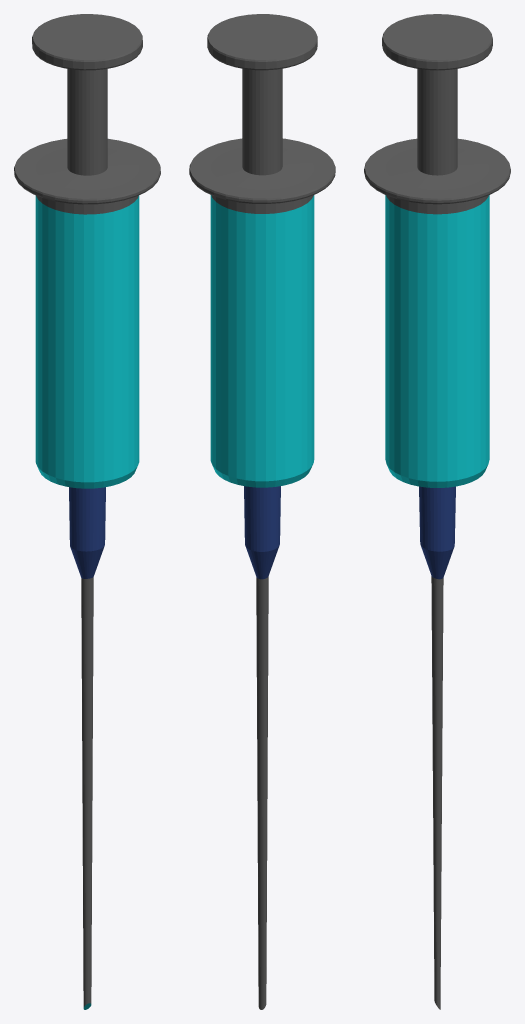
File: SupaSyringe.fbx
The picture shows the model from 3 angles, left to right: view 1: azimuth 30°, elevation 25°; view 2: azimuth 150°, elevation 25°; view 3: azimuth 270°, elevation 25°; orthographic projection.
Parts seen in each view (by area): view 1: Cylinder; view 2: Cylinder; view 3: Cylinder.
Part boxes in pixels (x1,y1,x2,y2): Cylinder: (14,14,160,1009); Cylinder: (189,14,335,1009); Cylinder: (364,14,510,1009).
Bounding box in the file's own units: 178 × 1300 × 178.
